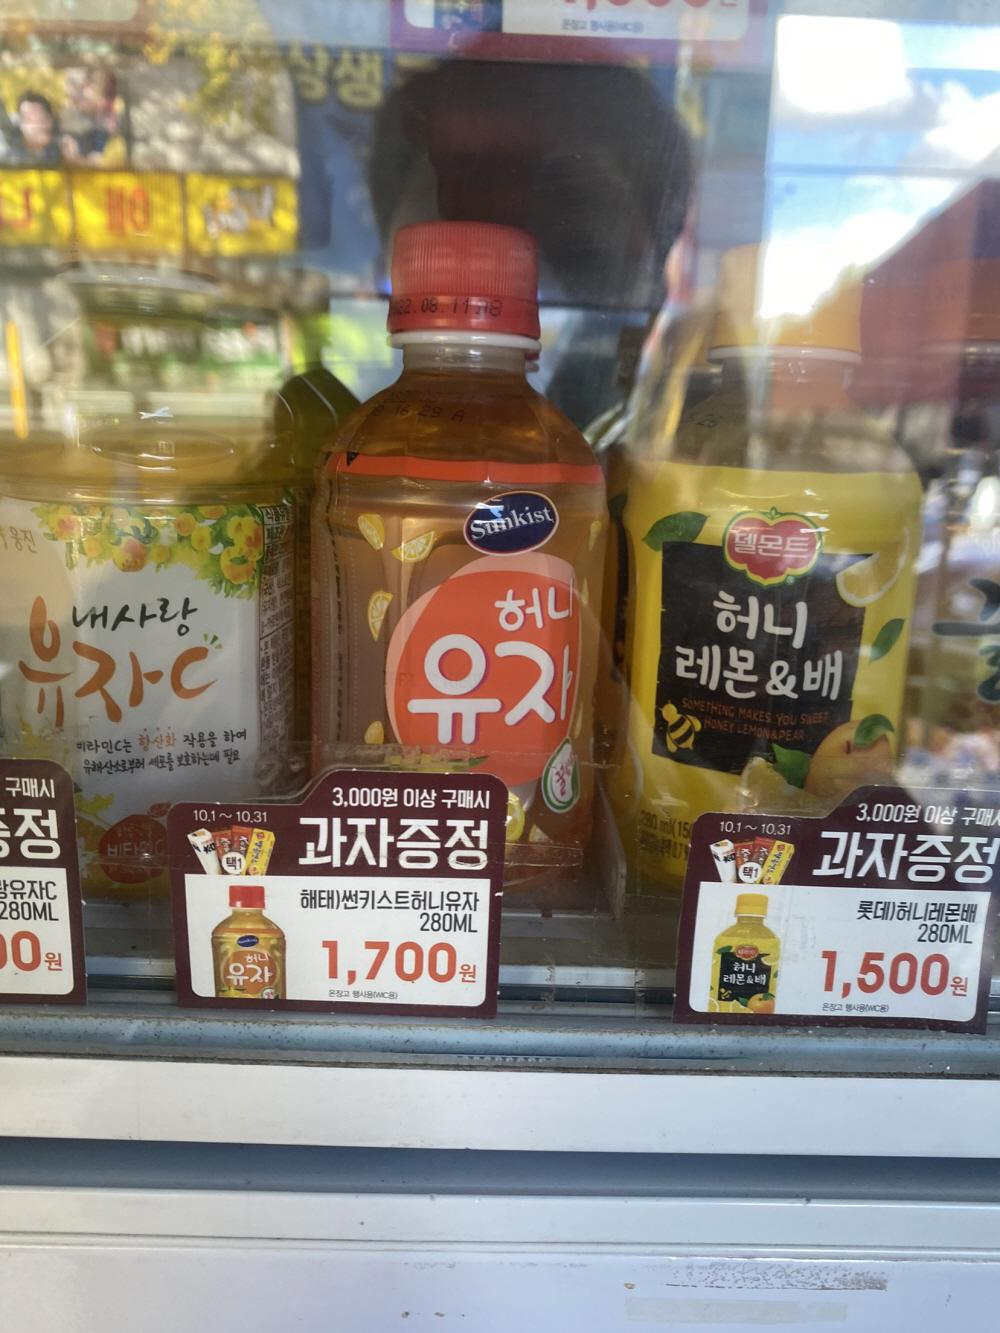honeyyuja: (285, 224, 638, 798)
